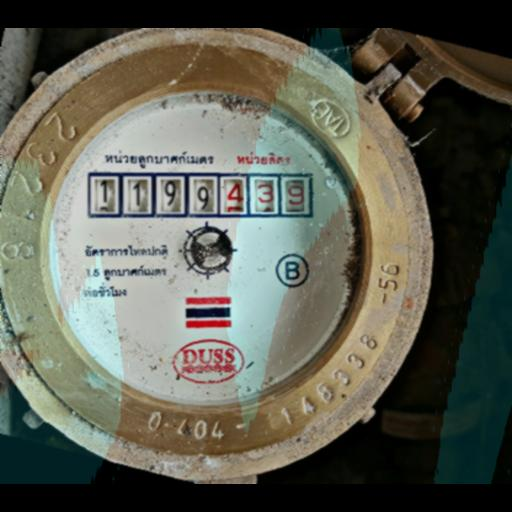1: (128, 180, 149, 212), (96, 181, 115, 212)
3: (255, 179, 274, 213)
4: (225, 180, 244, 214)
9: (162, 180, 181, 212), (285, 181, 305, 211), (195, 180, 213, 212)
border_water_meter_number: (88, 172, 314, 218)
